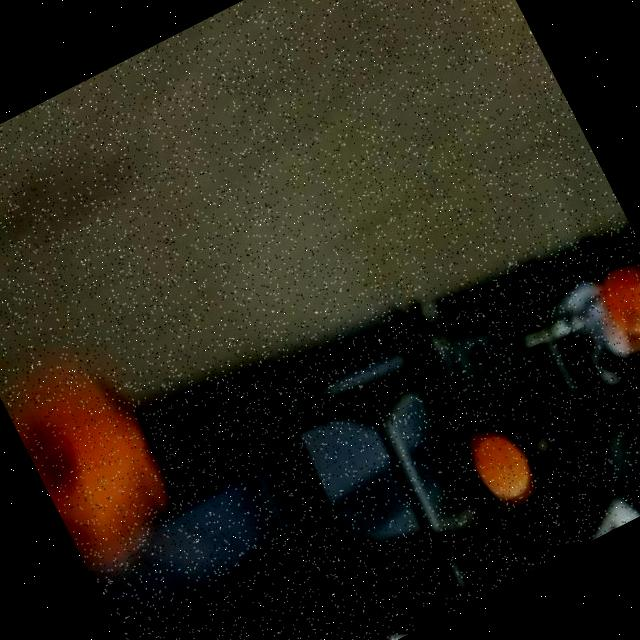ping-pong-ball: (2, 347, 200, 584), (458, 416, 544, 514), (588, 252, 640, 351)
